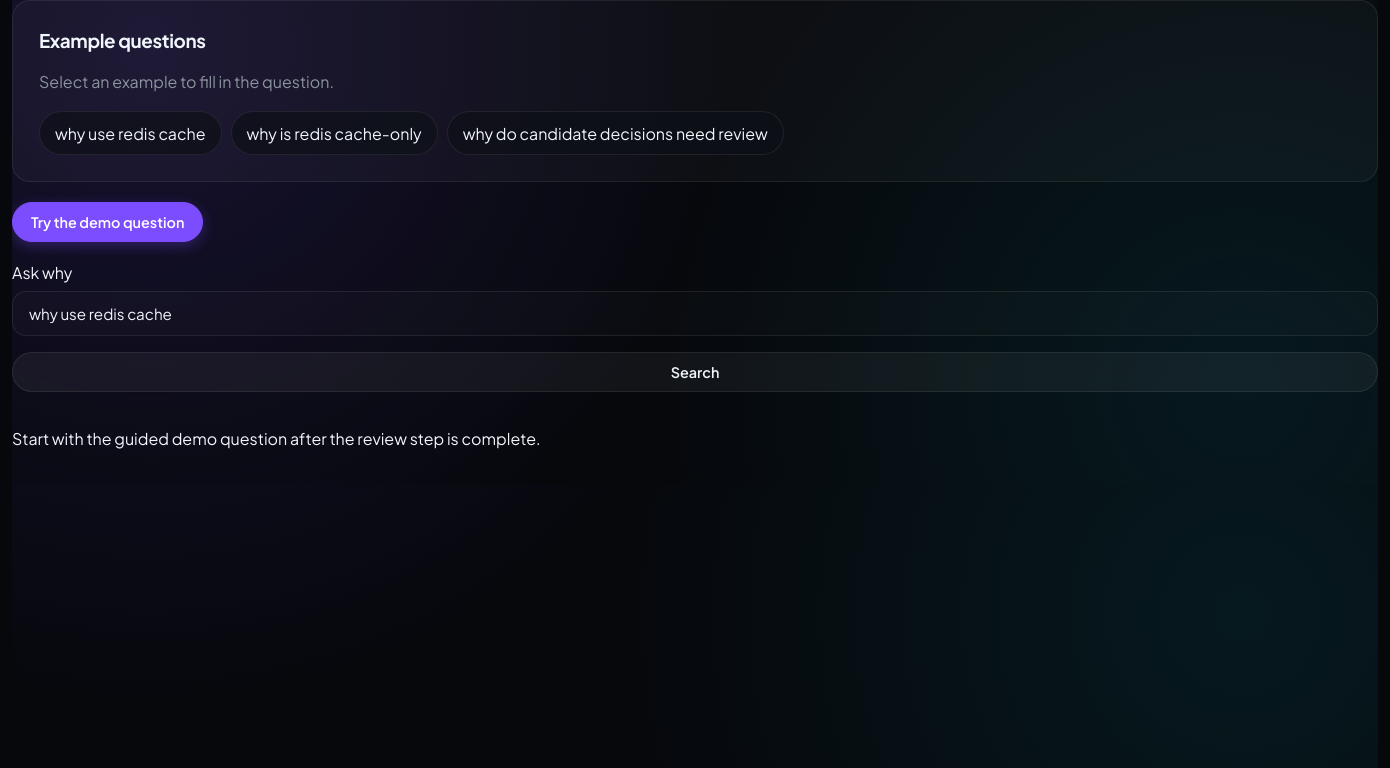
Scenario: QueryForm › renders a helpful error when why search fails
The width and height of the screenshot is (1390, 768).
Click the button "Search": (695, 372) [12, 352, 1378, 392]
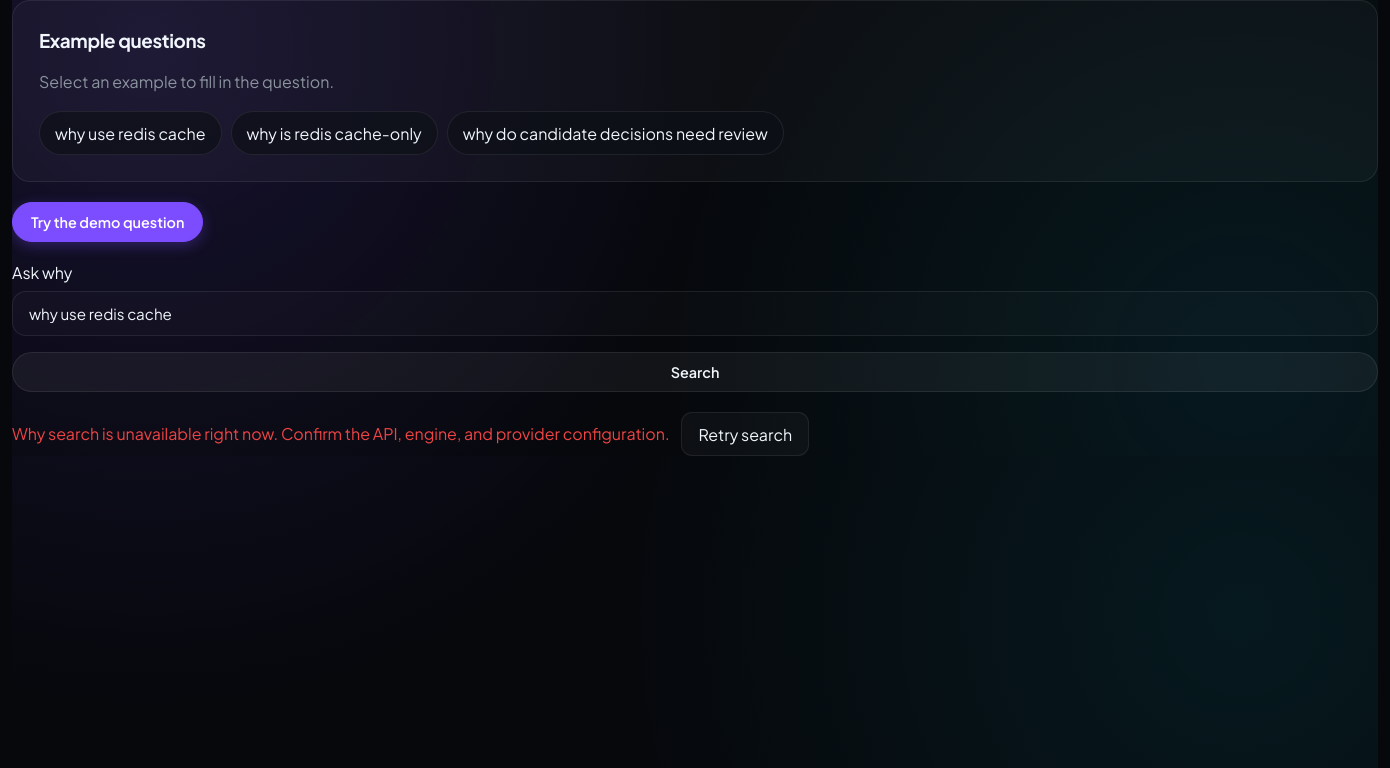
Now the text "Why search is unavailable right now" is shown, box [12, 423, 670, 444]
